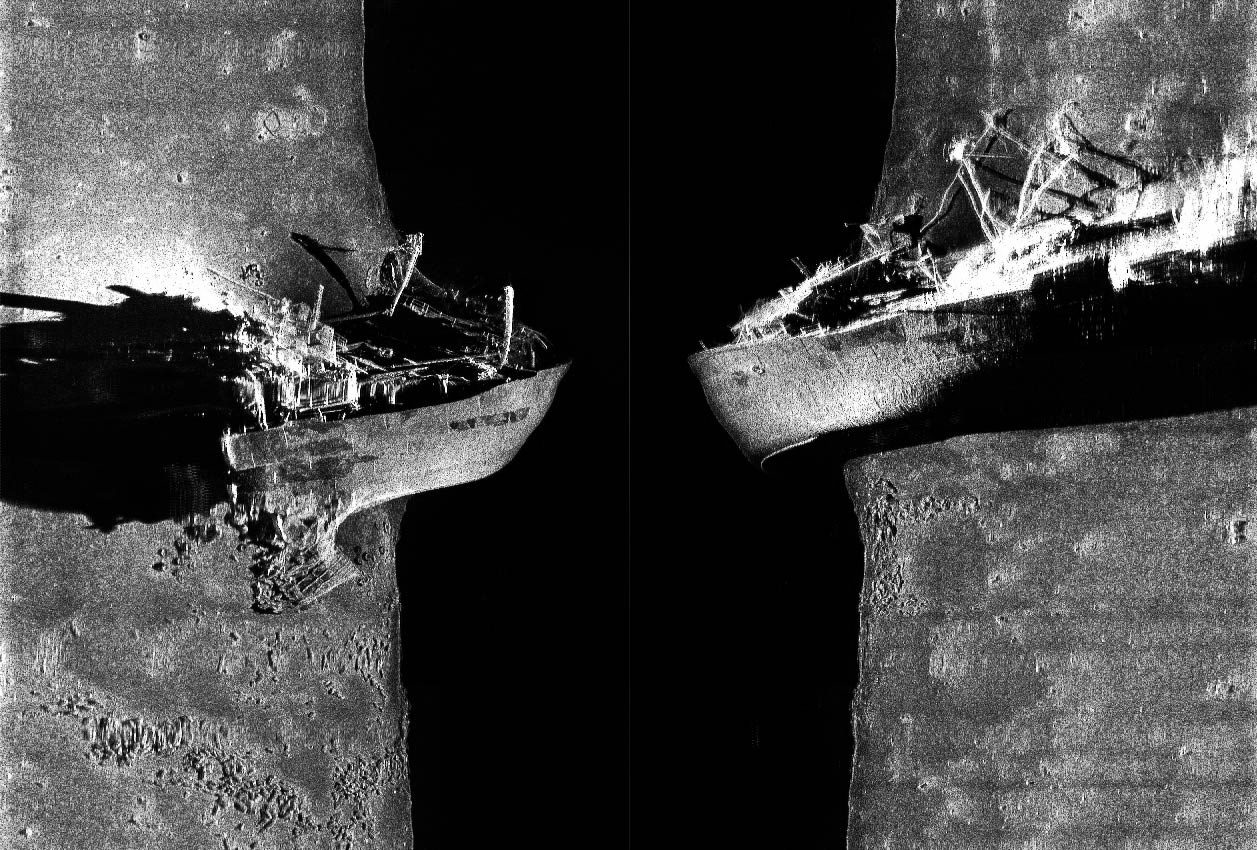ship: (686, 105, 1257, 473), (214, 227, 574, 615)
